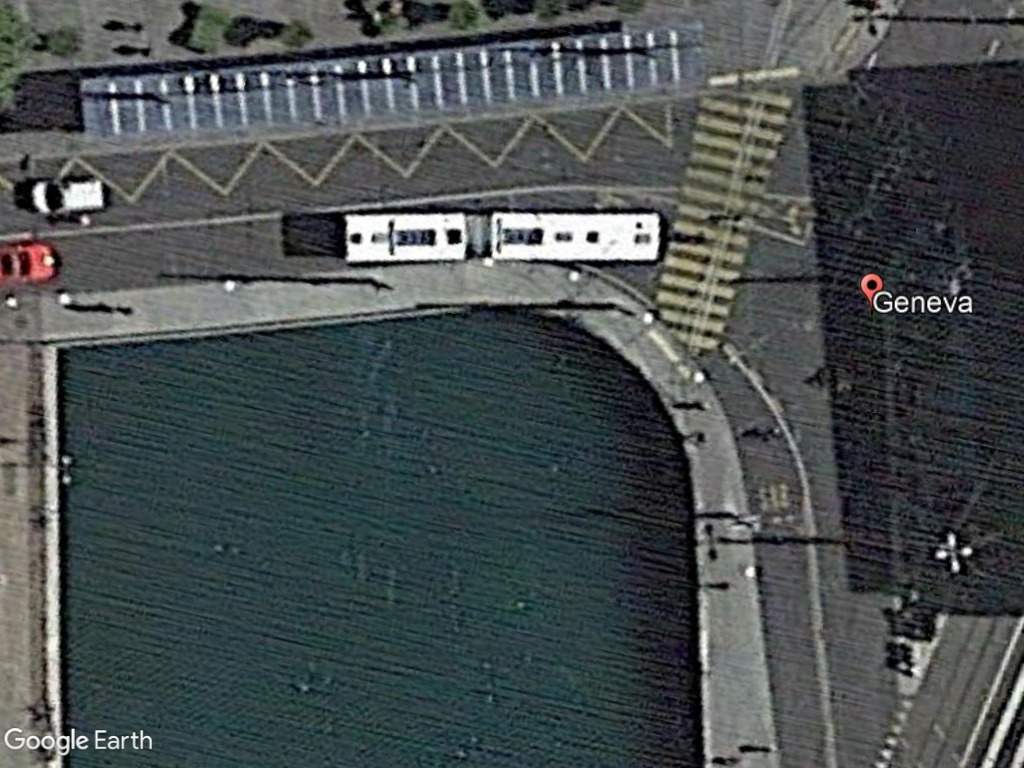bus: (485, 203, 663, 266), (340, 210, 472, 264)
